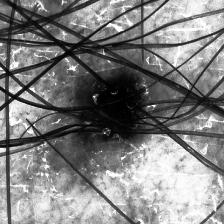Benign Marking or Mole: (88, 70, 150, 131)
